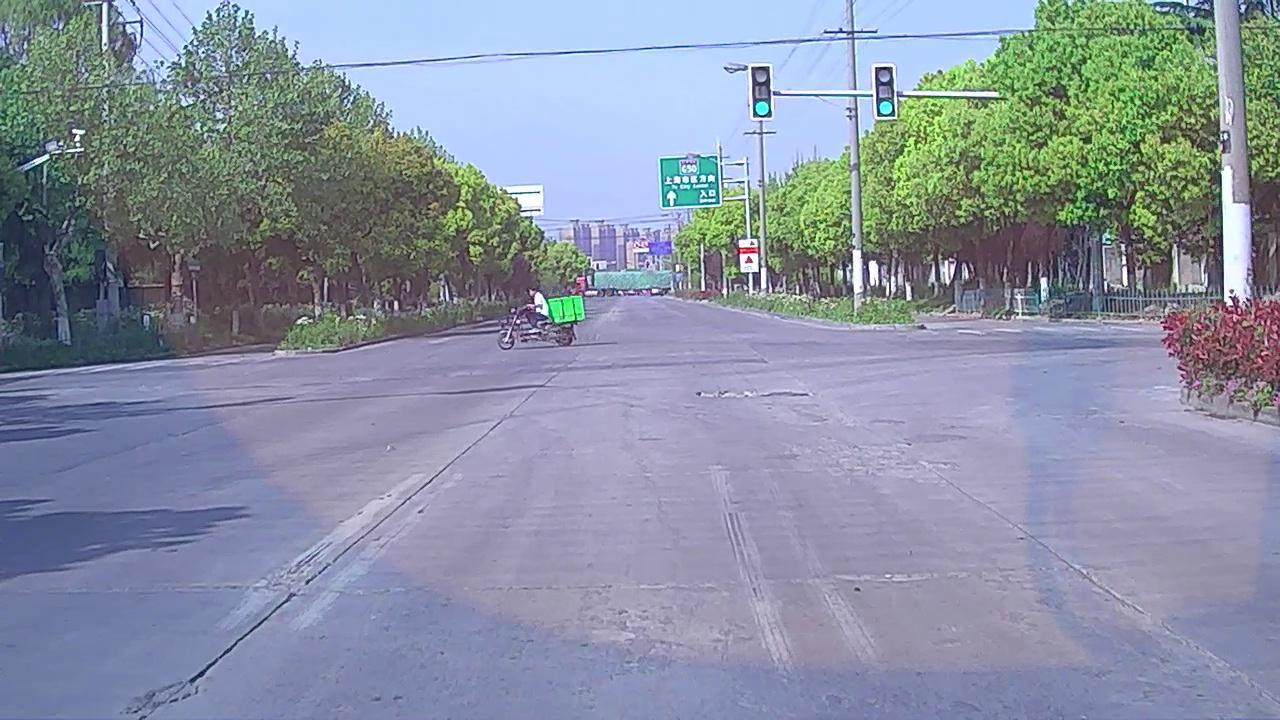traffic_light: (875, 67, 897, 119), (751, 64, 770, 120)
